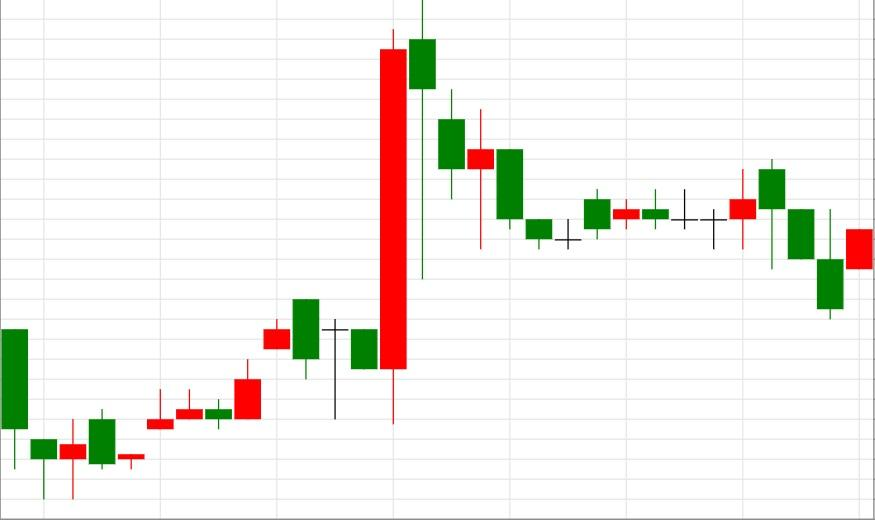bearish_engulfing_fall: (58, 298, 319, 501)
bullish_engulfing_rise: (292, 28, 408, 425)
three_black_crows_fall: (700, 159, 845, 320)
